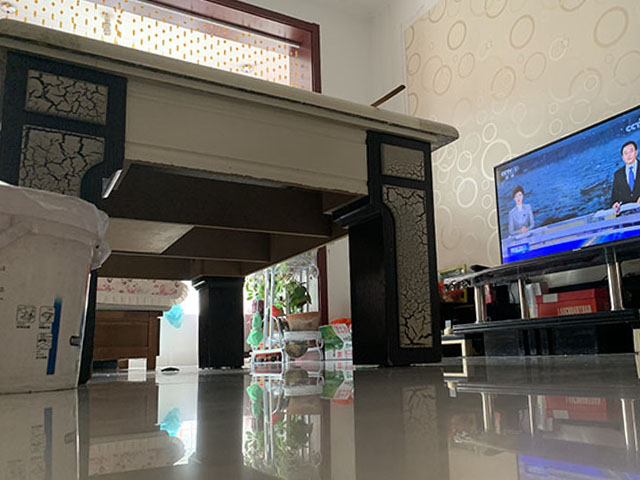cabinet: (442, 236, 640, 358)
table: (1, 11, 453, 385)
